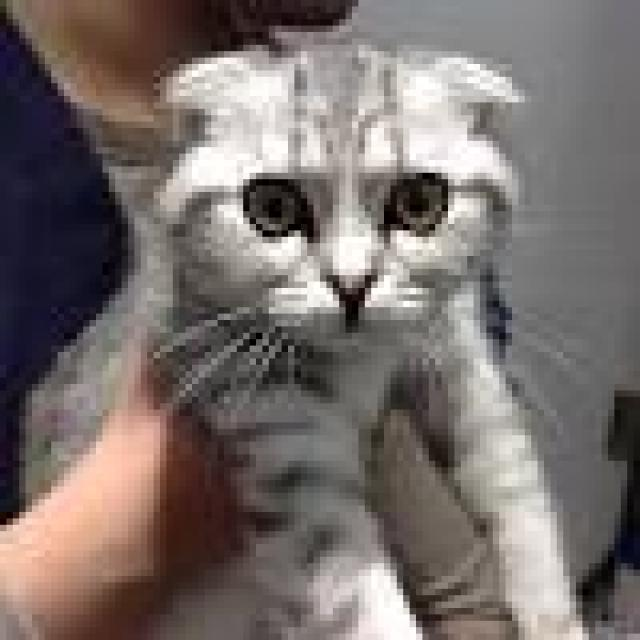cat-face: (95, 17, 580, 430)
